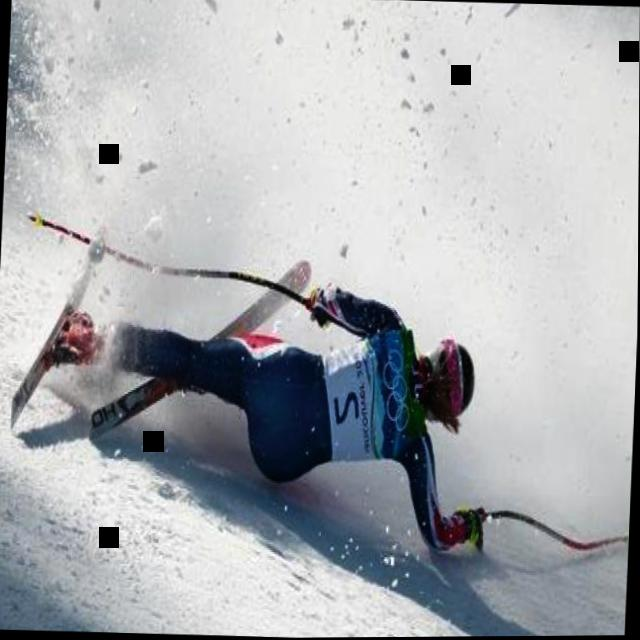Fall-Detected: (6, 219, 516, 573)
